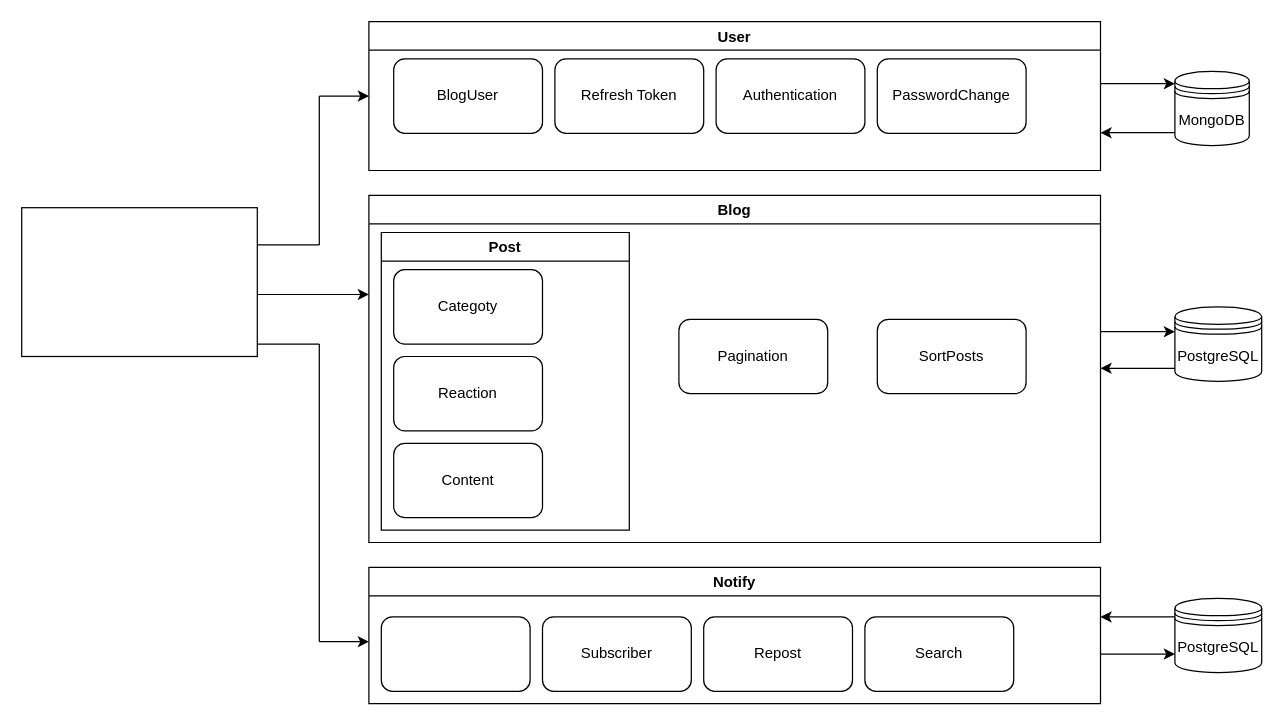
This 1283x725 diagram has some shape labels left out. Each missing label, with the centre of its shape:
"Api Gateway" goes at [138,281].
"Mail" goes at [455,653].
